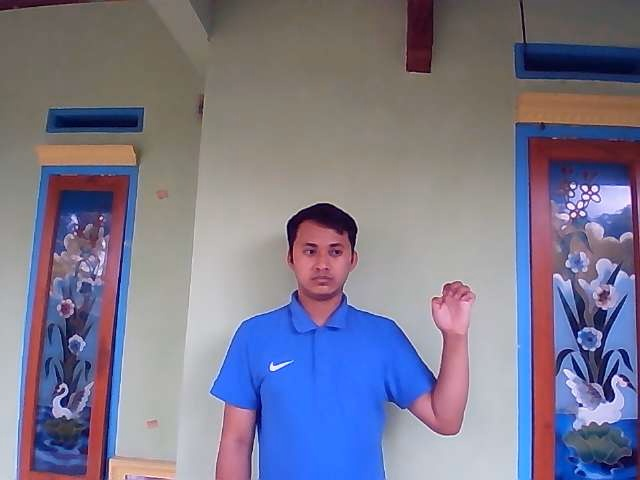E: (430, 280, 476, 335)
